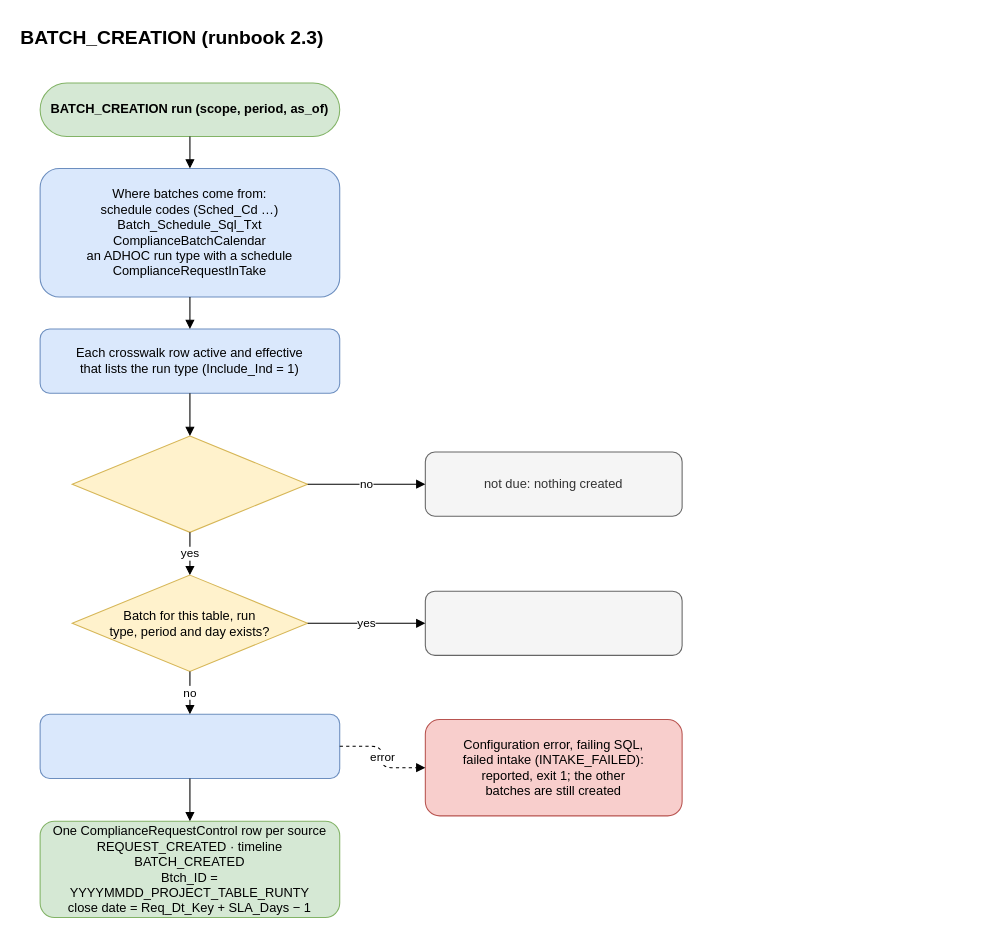
Image size: 999x936. Some labels were removed from this diagram. Each missing label, with the centre of its shape:
"Due today? (or within Sched_Window_Days)" goes at (189,483).
"exists: skipped" goes at (553,622).
"Report dates: ComplianceRunTypePeriod, crosswalk, SQL or the request" goes at (189,745).
